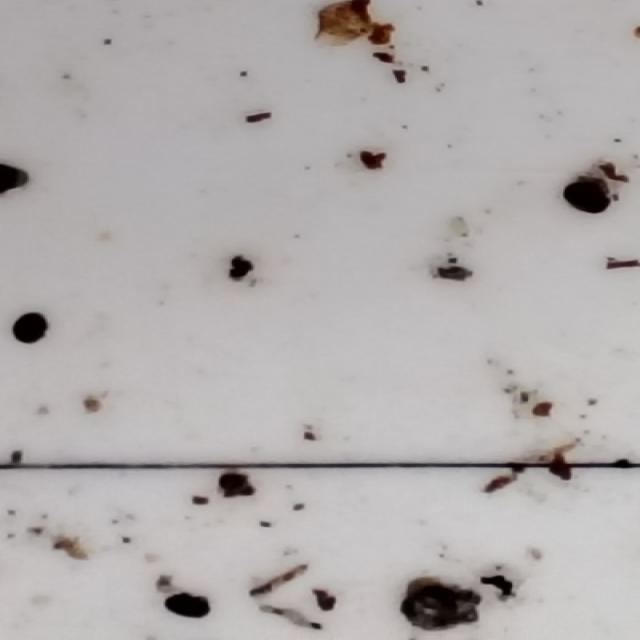varroa: (566, 179, 614, 219), (10, 312, 50, 349), (162, 591, 212, 620), (1, 163, 32, 200)
